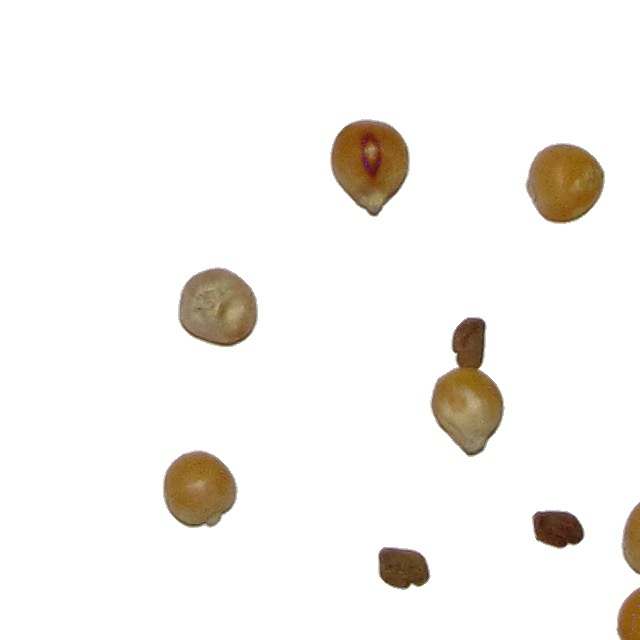buckwheat: (377, 546, 432, 591), (531, 509, 586, 550)
mais: (329, 118, 411, 218), (429, 362, 504, 458), (524, 142, 606, 225), (177, 266, 259, 348), (162, 449, 239, 529), (620, 491, 640, 583), (615, 582, 640, 640)
